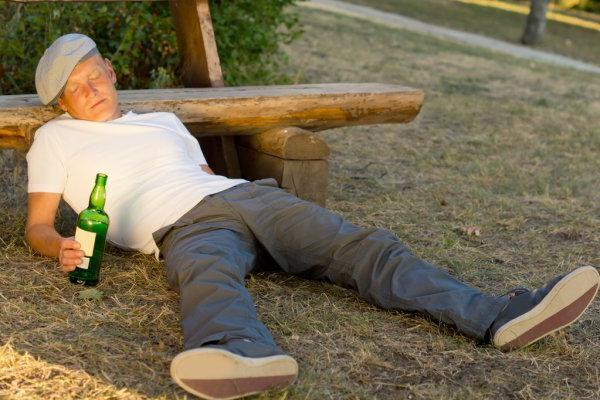Drunk: (66, 66, 115, 115)
